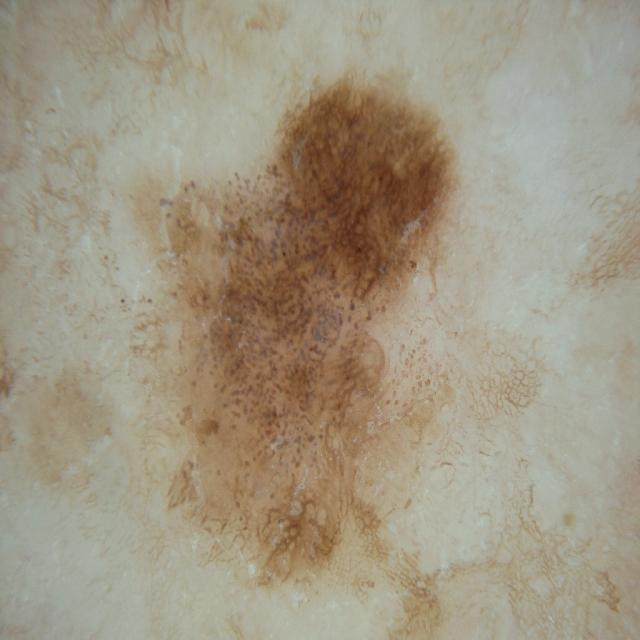Skin-Cancer Melanoma: (79, 46, 572, 640)
